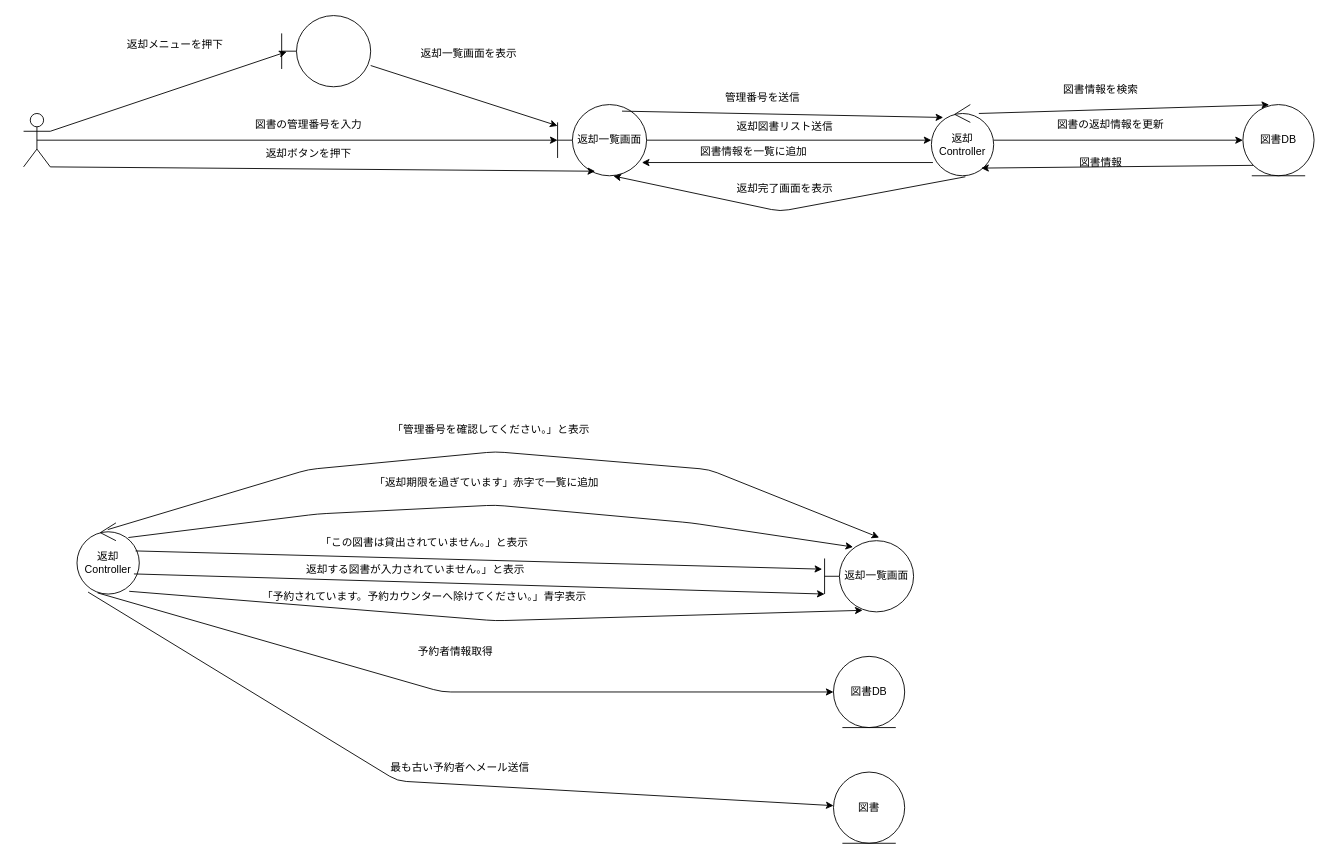
The diagram is 1330 pixels wide and 859 high, and some of its shapes have lost their labels. Each missing label, with the centre of its shape:
メニュー画面: pixel 326 51
事務職員: pixel 36 140
